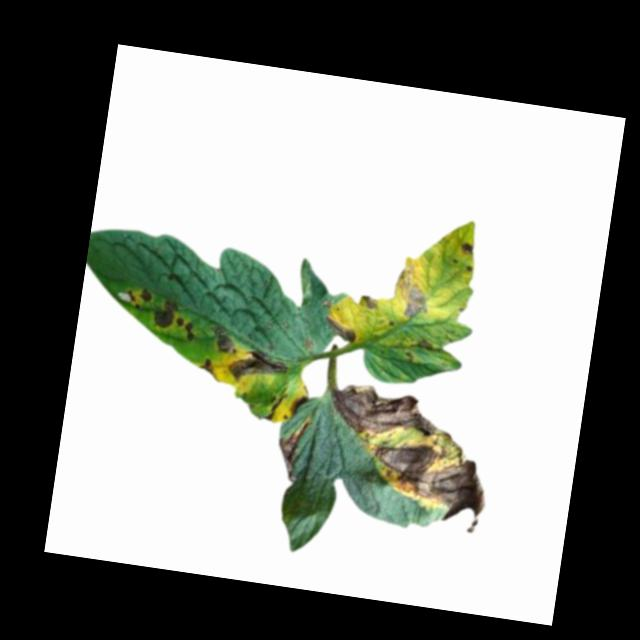Early_blight: (353, 440, 493, 534), (325, 378, 458, 453), (226, 346, 290, 390), (274, 415, 309, 484), (390, 266, 431, 322), (321, 315, 358, 346), (148, 295, 179, 331), (208, 326, 240, 358), (193, 355, 221, 384), (123, 285, 152, 312), (286, 391, 310, 419), (173, 316, 197, 342), (412, 334, 435, 354), (455, 237, 475, 258), (358, 295, 378, 311)
